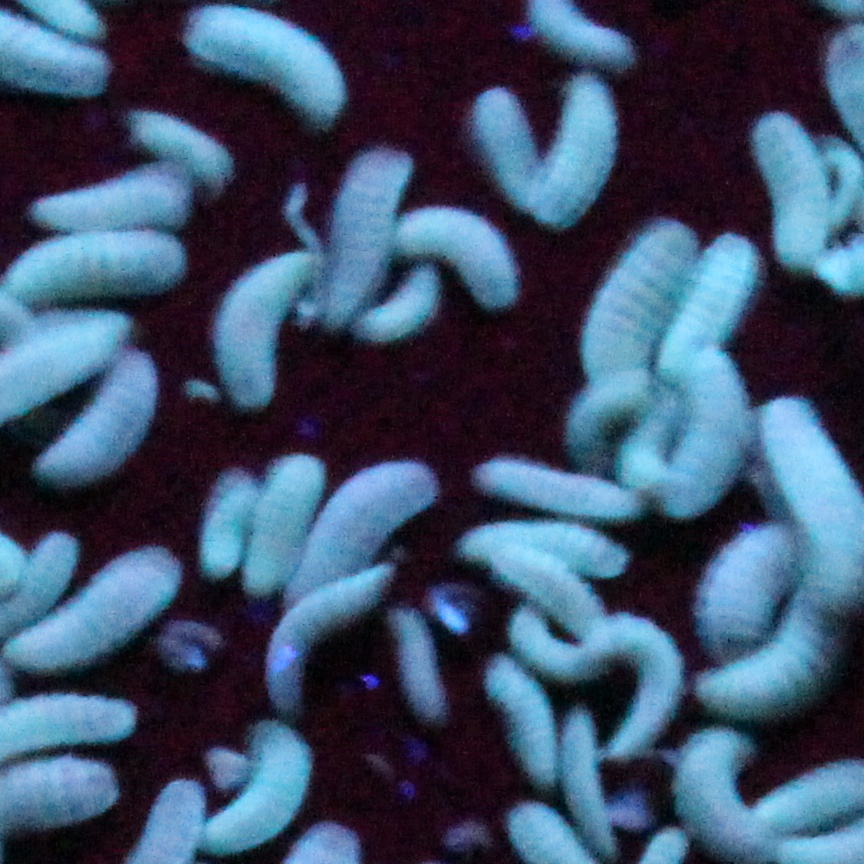larve: (2, 541, 196, 671), (574, 216, 685, 396), (293, 461, 439, 596), (653, 220, 767, 392), (36, 344, 169, 489), (4, 223, 193, 323), (208, 238, 311, 418), (741, 98, 841, 273), (260, 576, 386, 711), (683, 604, 828, 715), (394, 198, 519, 321), (667, 338, 754, 513), (465, 450, 651, 530), (523, 67, 616, 226), (17, 154, 197, 233), (324, 144, 398, 336), (475, 652, 566, 785), (693, 505, 779, 643), (594, 612, 677, 750), (123, 95, 240, 189), (466, 512, 628, 575), (469, 93, 552, 209), (385, 606, 458, 728), (355, 251, 445, 344), (491, 551, 601, 621), (197, 461, 257, 581), (510, 617, 594, 677)
